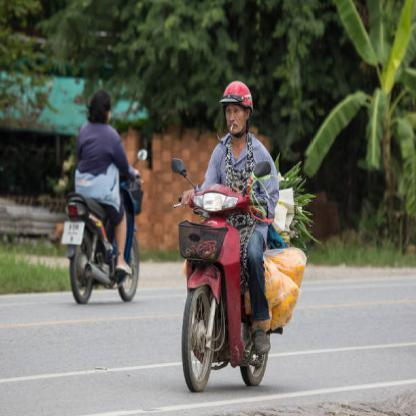Motorcycle: (171, 155, 288, 389), (63, 139, 151, 308)
